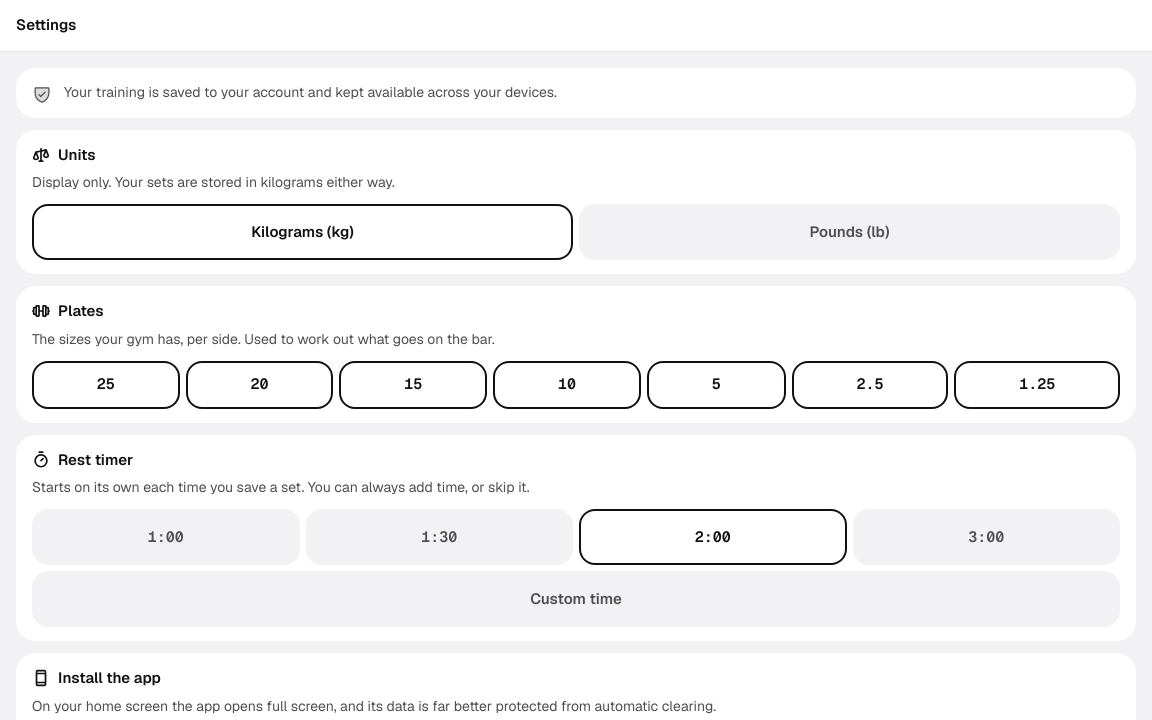
a rest time the presets do not offer › opens on the value in force, so it is edited rather than retyped
Click the button "Custom time" at [576, 599], box left=32, top=571, right=1120, bottom=627
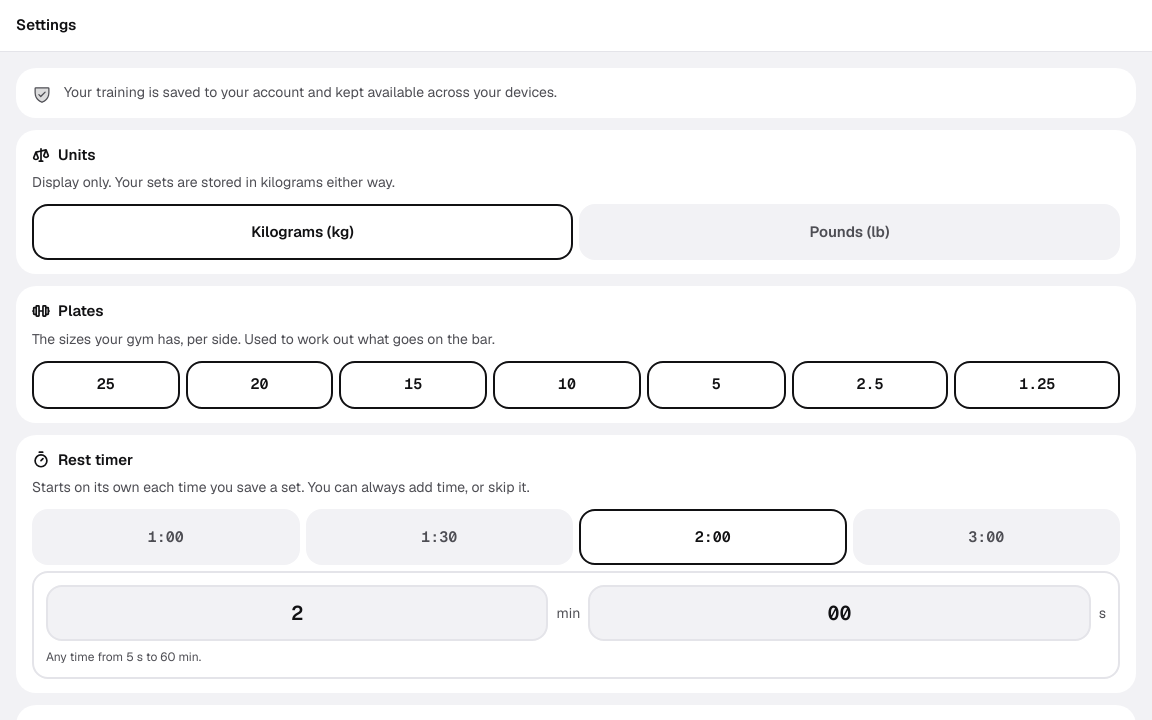
Expected: the field named "Rest, minutes" holds "2", left=46, top=585, right=548, bottom=641
Expected: the field named "Rest, seconds" holds "00", left=588, top=585, right=1091, bottom=641
